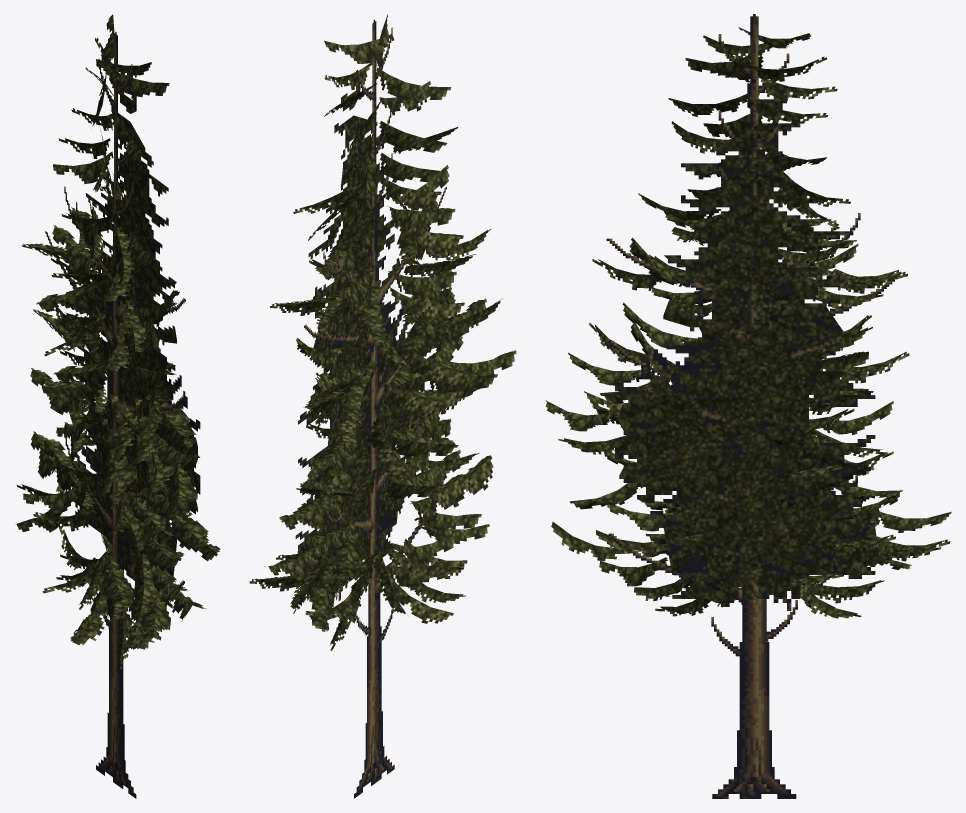
The model's file is ObjMD_Tree_Forest_A_NoLodBattle.FBX.
3 renders of one model, left to right at view 1: azimuth 30°, elevation 25°; view 2: azimuth 150°, elevation 25°; view 3: azimuth 270°, elevation 25°, orthographic. The views are drawn at different scales.
Parts seen in each view (by area): view 1: ObjMD_Tree_Forest_A_NoLodBattle; view 2: ObjMD_Tree_Forest_A_NoLodBattle; view 3: ObjMD_Tree_Forest_A_NoLodBattle.
Boxes of the visible parts, x1,y1,x2,y2 form: ObjMD_Tree_Forest_A_NoLodBattle: (15, 14, 220, 798); ObjMD_Tree_Forest_A_NoLodBattle: (249, 14, 516, 798); ObjMD_Tree_Forest_A_NoLodBattle: (545, 14, 951, 798).
Bounding box in the file's own units: 201 × 1500 × 704.
